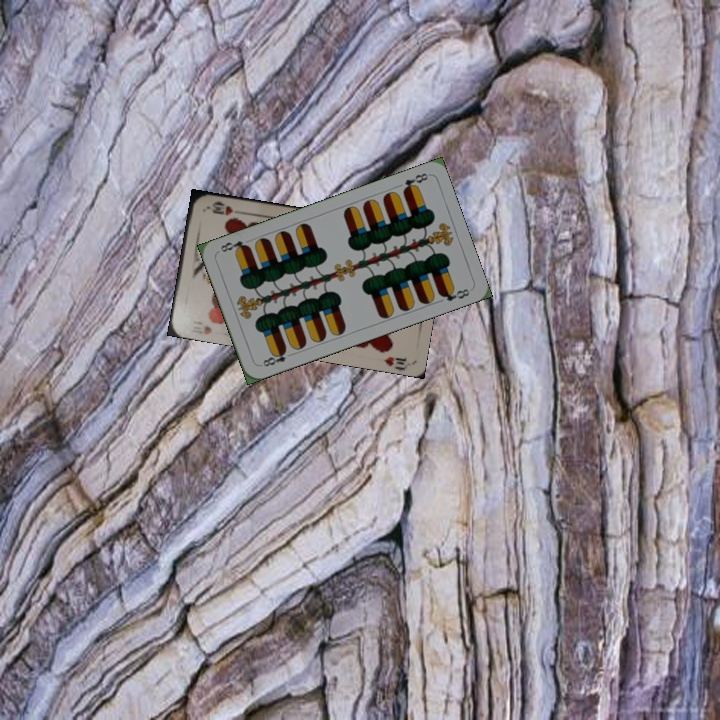E8: (256, 345, 296, 369), (399, 169, 431, 195)
H10: (188, 317, 214, 337)
